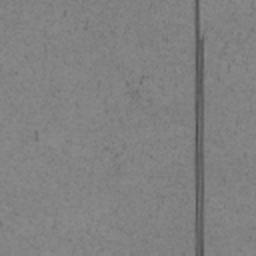Scratches: (194, 0, 205, 256)
